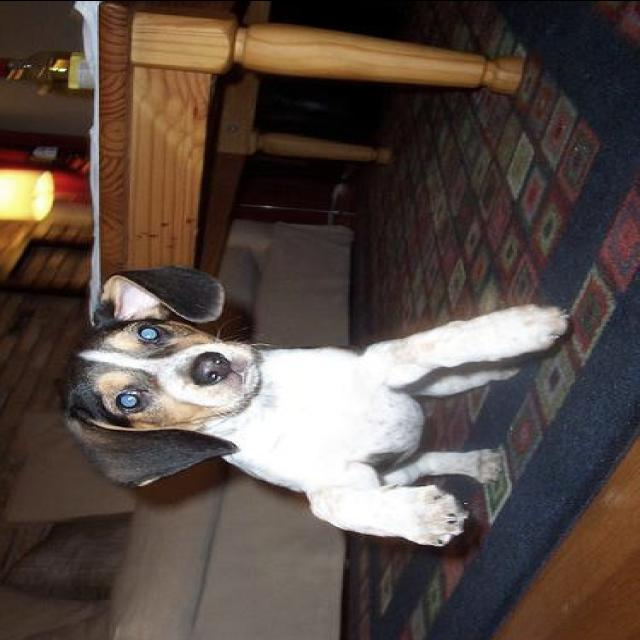beagle: (59, 264, 572, 548)
